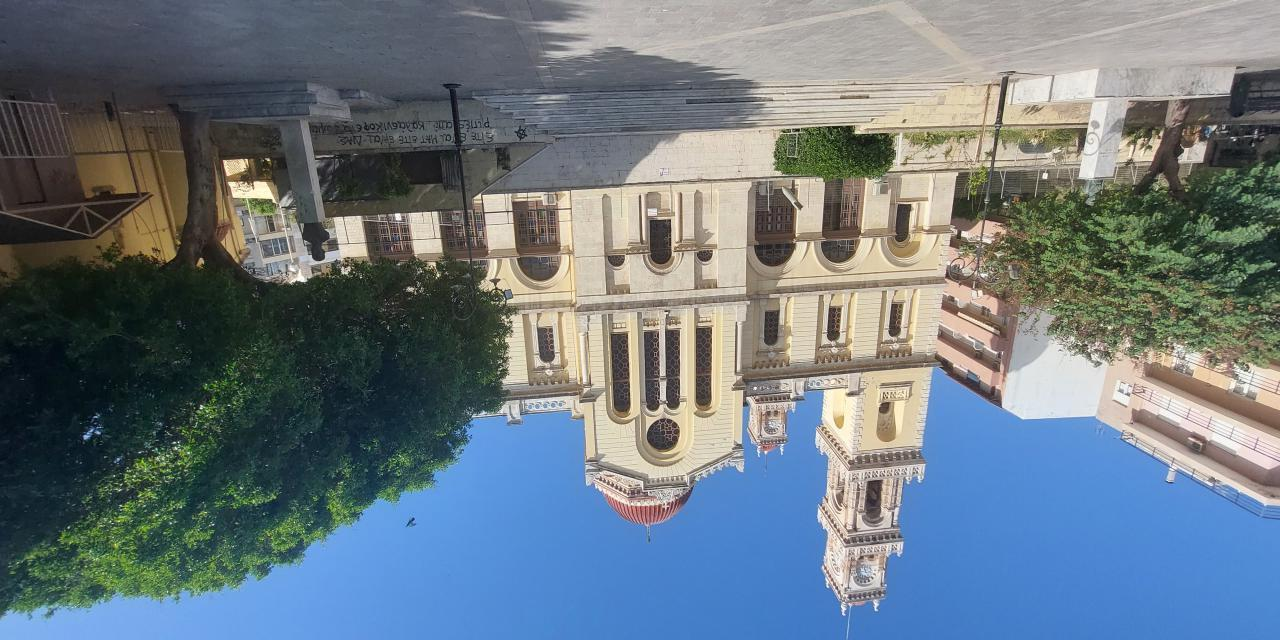Agios Minas: (331, 169, 960, 636)
